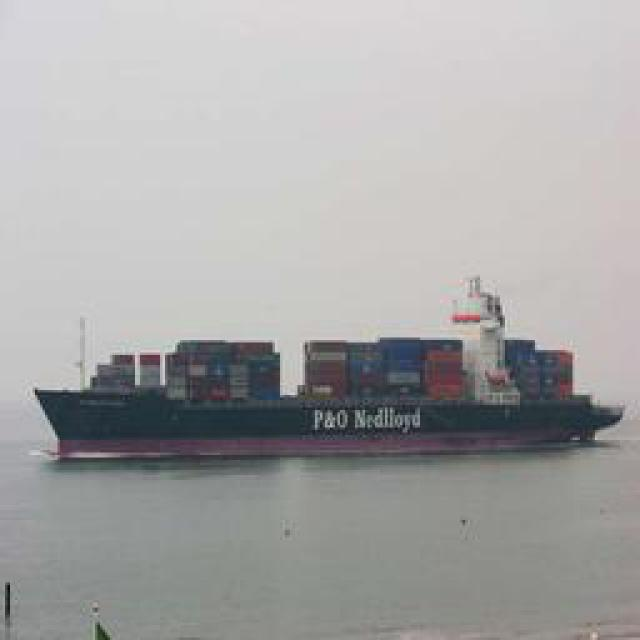Ship: (44, 298, 614, 453)
